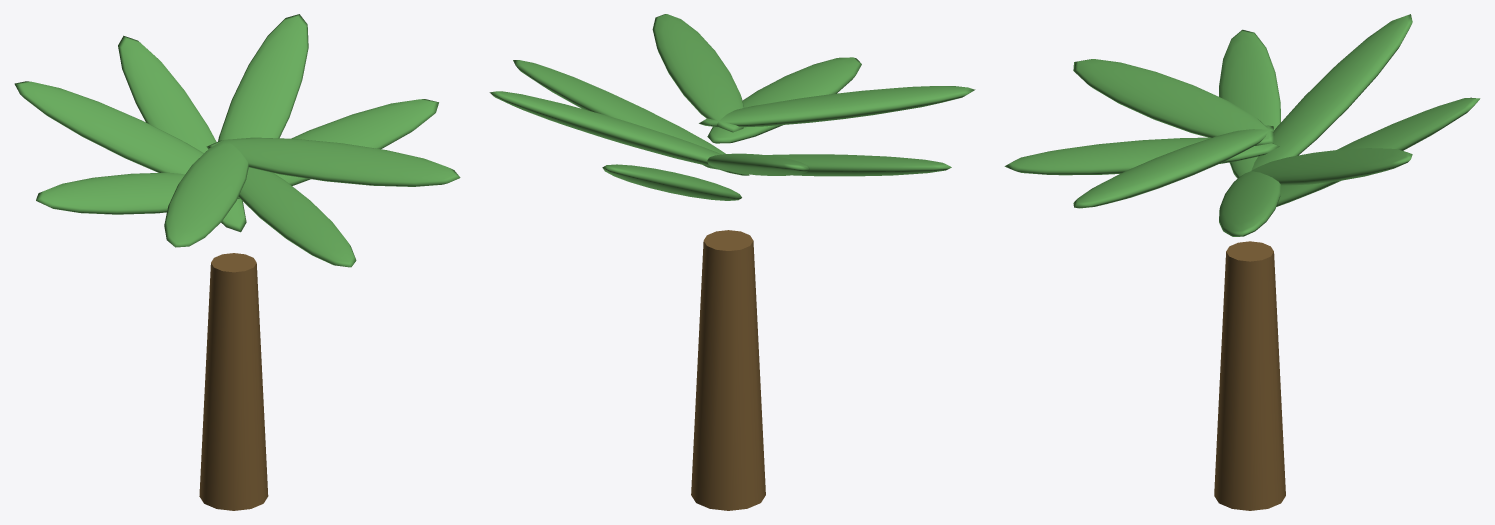
3 views of the same model, side by side, from view 1: azimuth 30°, elevation 25°; view 2: azimuth 150°, elevation 25°; view 3: azimuth 270°, elevation 25° (orthographic). The views are drawn at different scales.
Parts seen in each view (by area): view 1: banana-plant; view 2: banana-plant; view 3: banana-plant.
Part boxes in pixels (x1,y1,x2,y2): banana-plant: (14,14,460,510); banana-plant: (489,14,975,510); banana-plant: (1004,14,1480,510).
Size of the model in its own units: 1.63 by 1.51 by 1.59.
